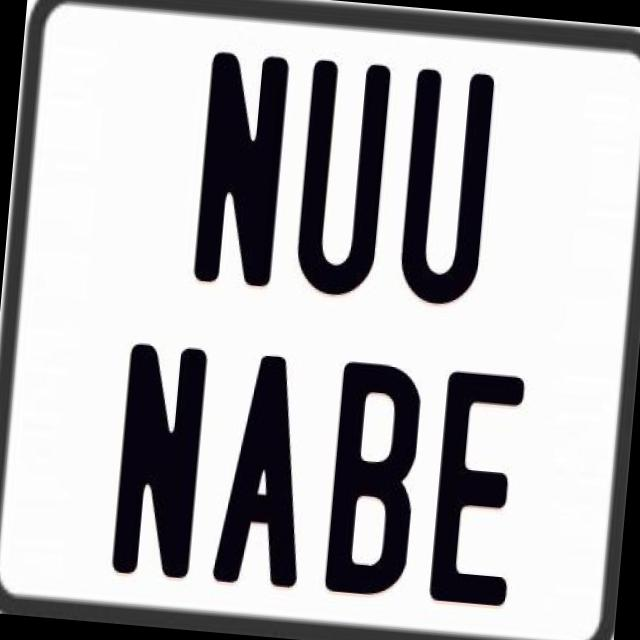A: (211, 350, 317, 592)
B: (321, 356, 419, 594)
E: (424, 370, 530, 616)
N: (106, 340, 212, 584), (192, 47, 291, 288)
U: (293, 59, 395, 299), (392, 66, 491, 311)
